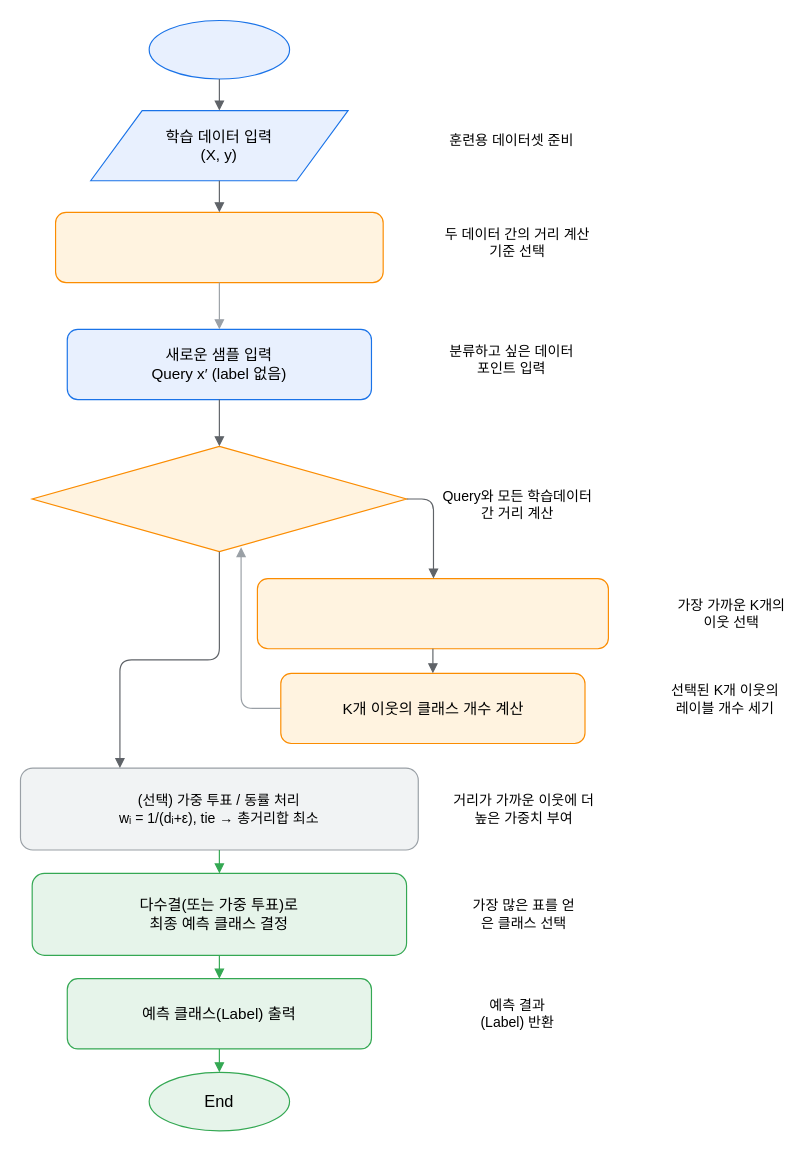
The diagram is 810 pixels wide and 1151 high, and some of its shapes have lost their labels. Here are the shapes that lost their labels. From the top down, the centre of each, then its label:
(x=219, y=49): Start
(x=218, y=247): 거리함수 선택 (metric) Euclidean / Manhattan
(x=219, y=498): 거리 계산: x′ ↔ 모든 학습데이터 D[i] = dist(x′, X[i])
(x=432, y=613): 거리 기준 정렬 → 가까운 K개 선택
